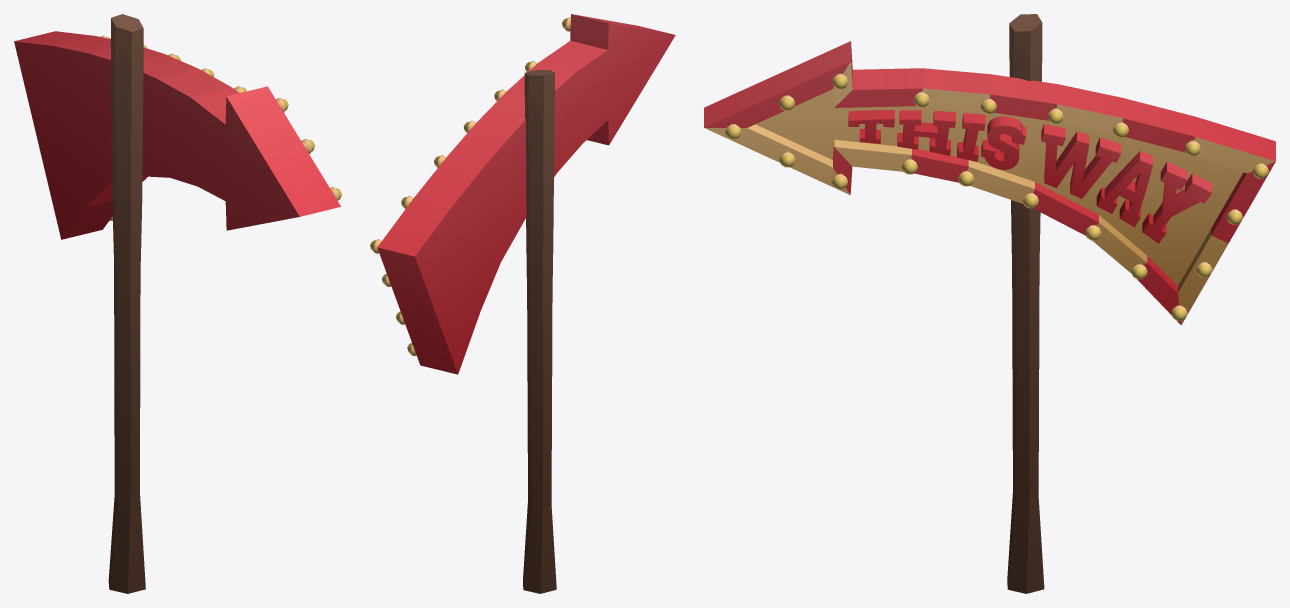
The model's file is this_way_left_stick.fbx.
3 renders of one model, left to right at view 1: azimuth 30°, elevation 25°; view 2: azimuth 150°, elevation 25°; view 3: azimuth 270°, elevation 25°, orthographic. The views are drawn at different scales.
Visible parts, largest first — view 1: this_way_left_stick; view 2: this_way_left_stick; view 3: this_way_left_stick.
Boxes of the visible parts, x1,y1,x2,y2 form: this_way_left_stick: (14, 14, 341, 593); this_way_left_stick: (370, 14, 675, 593); this_way_left_stick: (704, 14, 1275, 593).
Bounding box in the file's own units: 39.67 × 249 × 228.
